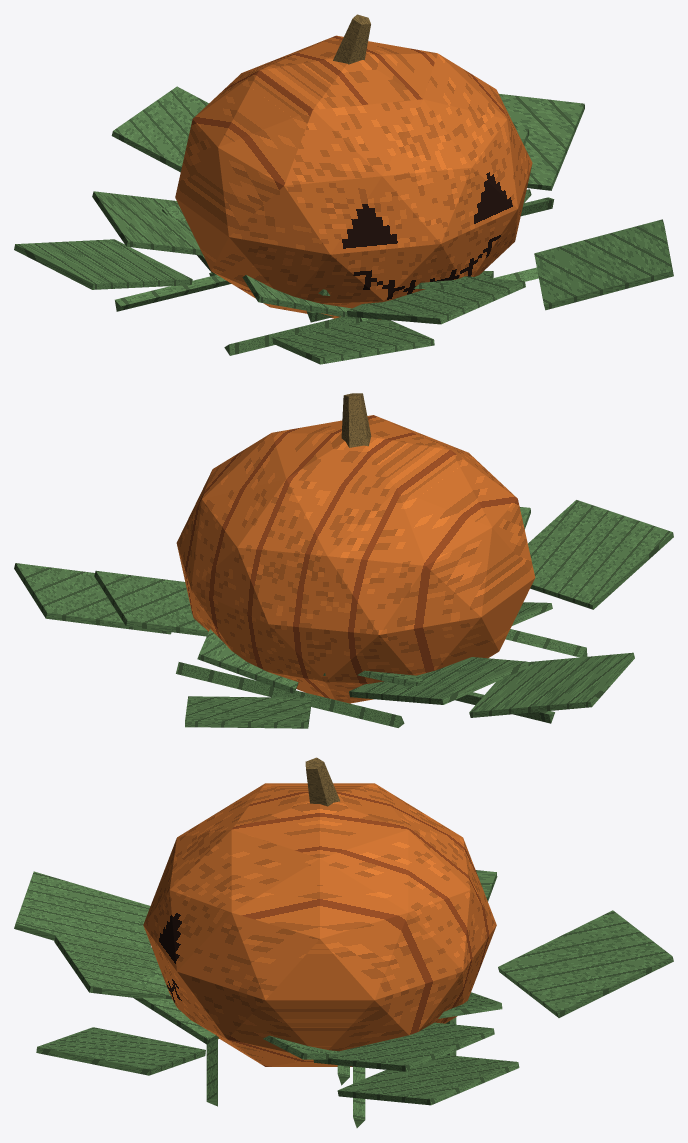
Rendered from crop-pumpkin.glb.
The picture shows the model from 3 angles, top to bottom: view 1: azimuth 30°, elevation 25°; view 2: azimuth 150°, elevation 25°; view 3: azimuth 270°, elevation 25°; orthographic projection.
Parts seen in each view (by area): view 1: stage-3, stage-2, stage-1; view 2: stage-3, stage-2, stage-1; view 3: stage-3, stage-2, stage-1.
Part boxes in pixels (<box>): stage-3: <box>175,14,532,319</box>; stage-2: <box>14,86,673,364</box>; stage-1: <box>92,127,529,324</box>; stage-3: <box>176,393,535,703</box>; stage-2: <box>14,500,673,728</box>; stage-1: <box>94,507,530,704</box>; stage-3: <box>143,757,496,1066</box>; stage-2: <box>14,871,673,1127</box>; stage-1: <box>54,870,497,1085</box>.
Size of the model in its own units: 1.29 by 0.6226 by 1.27.
Materials: 1 (1 with a texture image).
